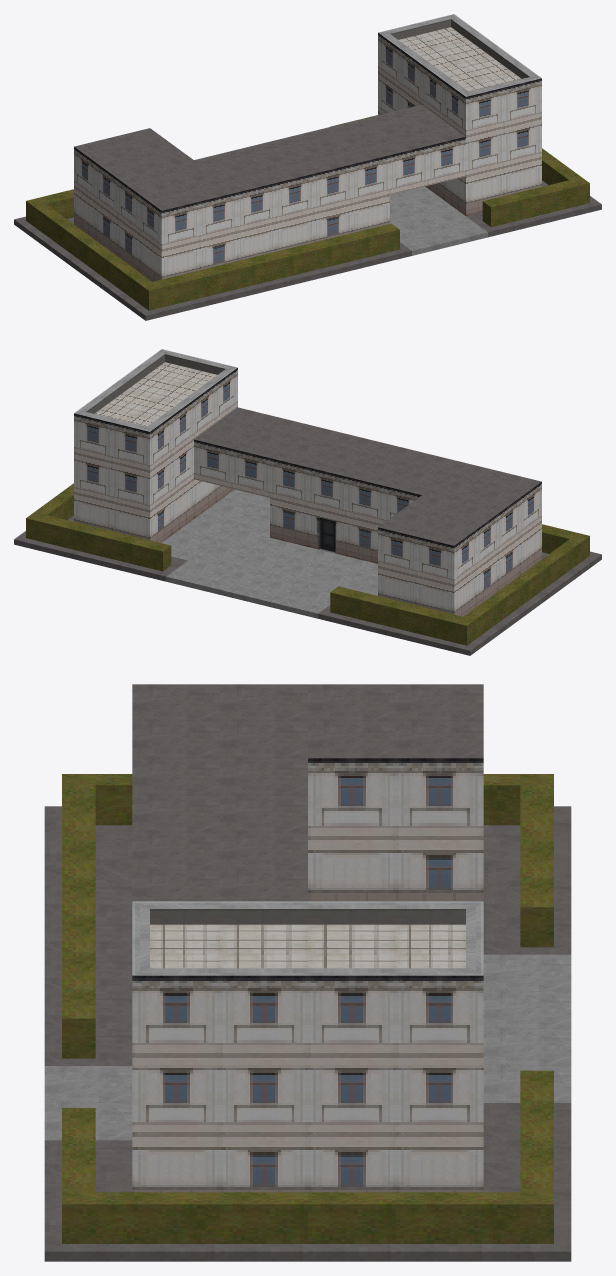
The model's file is building_07_smooth.glb.
The picture shows the model from 3 angles, top to bottom: view 1: azimuth 30°, elevation 25°; view 2: azimuth 150°, elevation 25°; view 3: azimuth 270°, elevation 25°; orthographic projection. The views are drawn at different scales.
Parts seen in each view (by area): view 1: building_07_smooth2; view 2: building_07_smooth2; view 3: building_07_smooth2.
Part boxes in pixels (x1,y1,x2,y2): building_07_smooth2: (14, 14, 601, 320); building_07_smooth2: (14, 349, 601, 655); building_07_smooth2: (44, 684, 571, 1261).
Bounding box in the file's own units: 60 × 15.64 × 30.
Materials: 1 (1 with a texture image).
